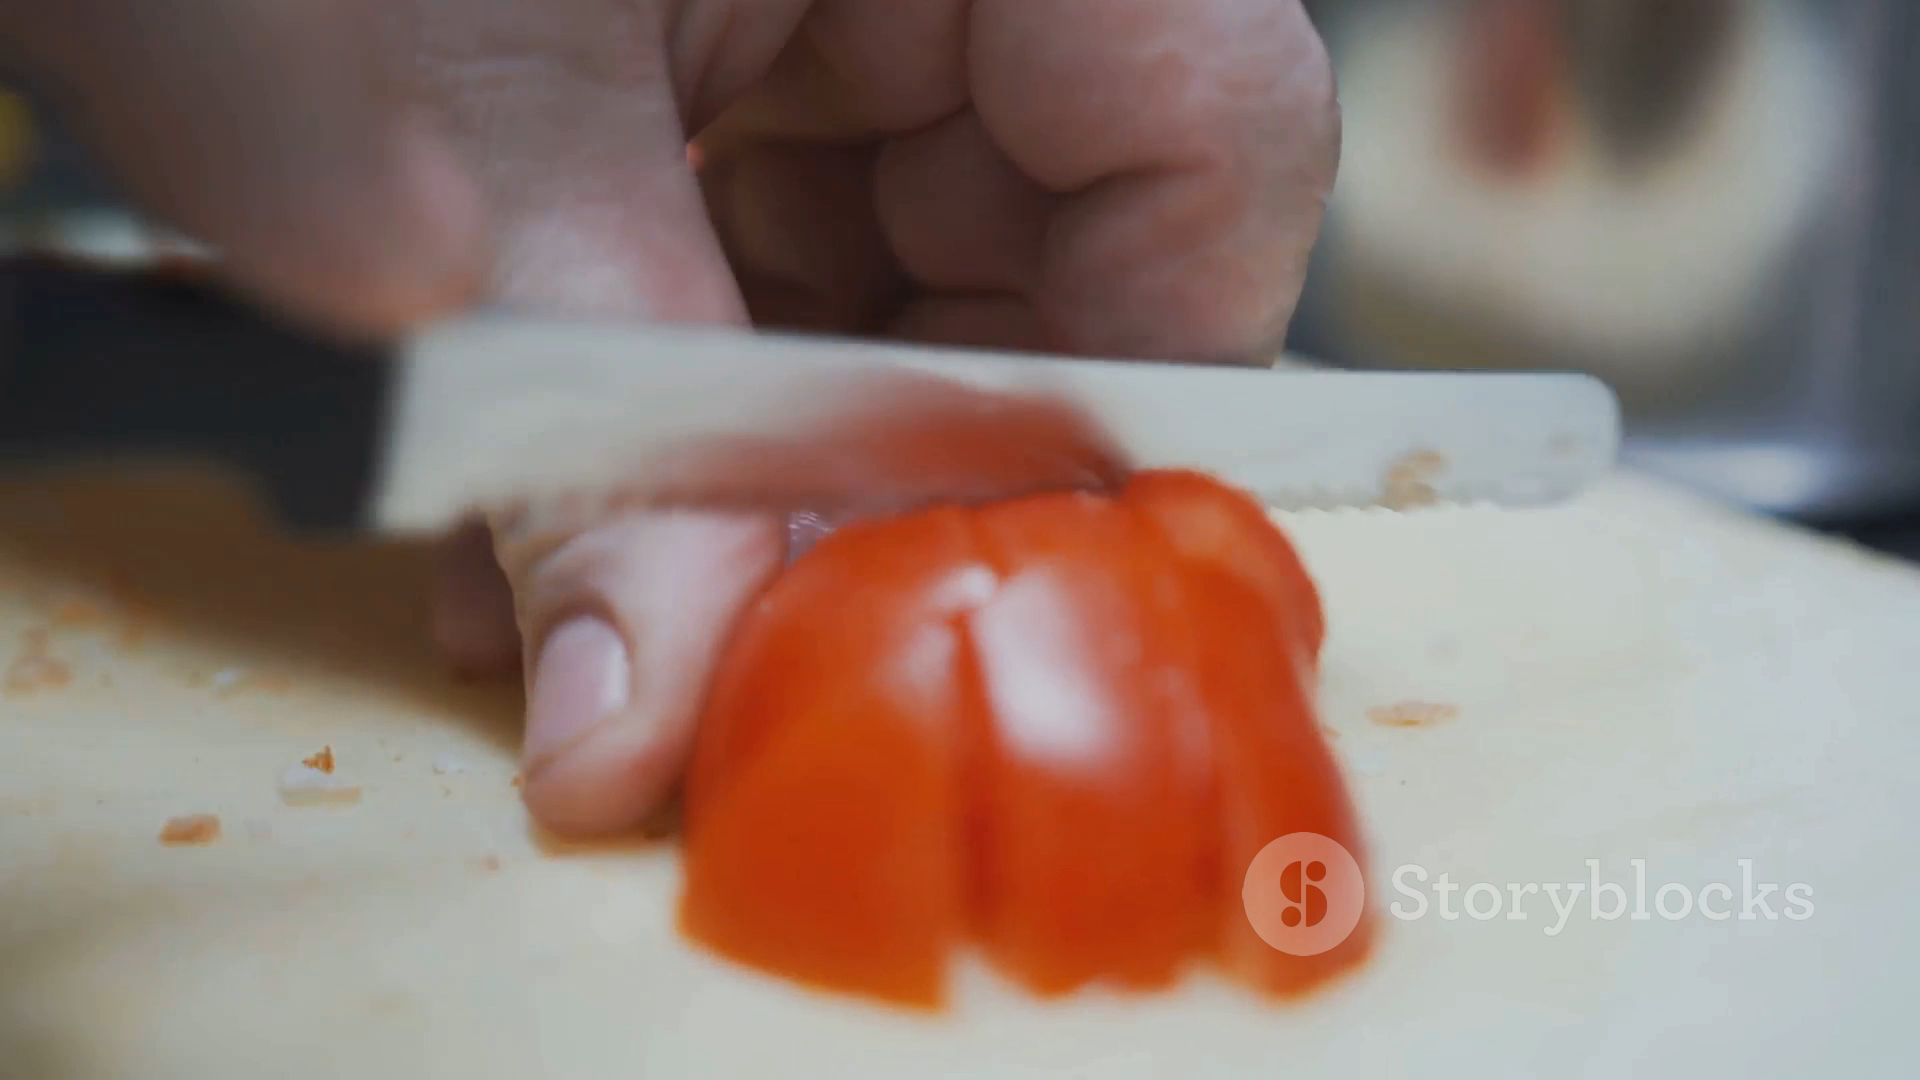cortante: (365, 301, 1621, 538)
